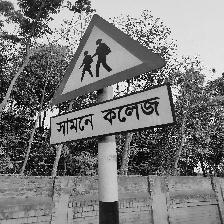College-in-front: (48, 13, 176, 165)
